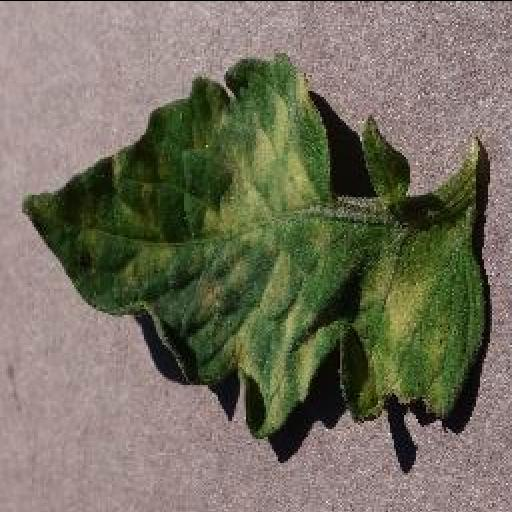disease_tomato: (22, 53, 492, 438)
